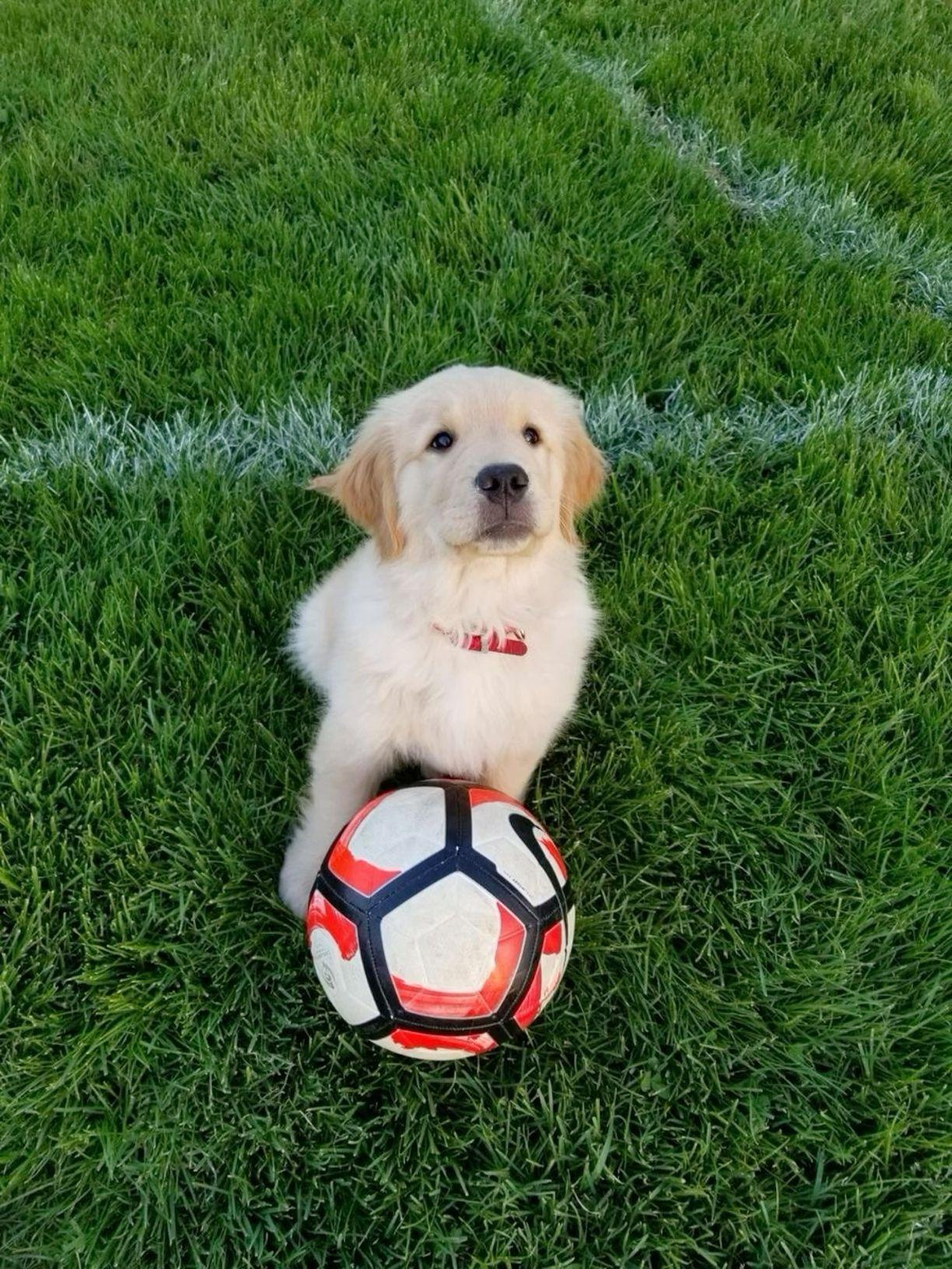puppy-dog: (277, 362, 611, 915)
